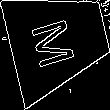M_E: (32, 12, 85, 70)
